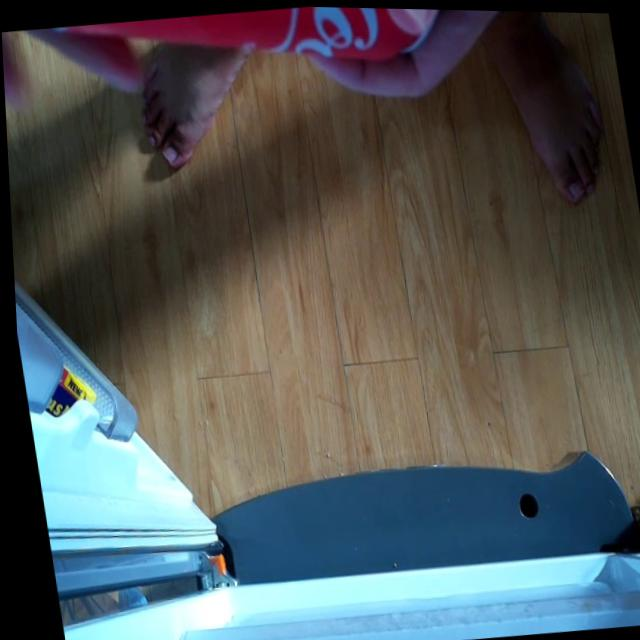coke: (45, 1, 459, 92)
